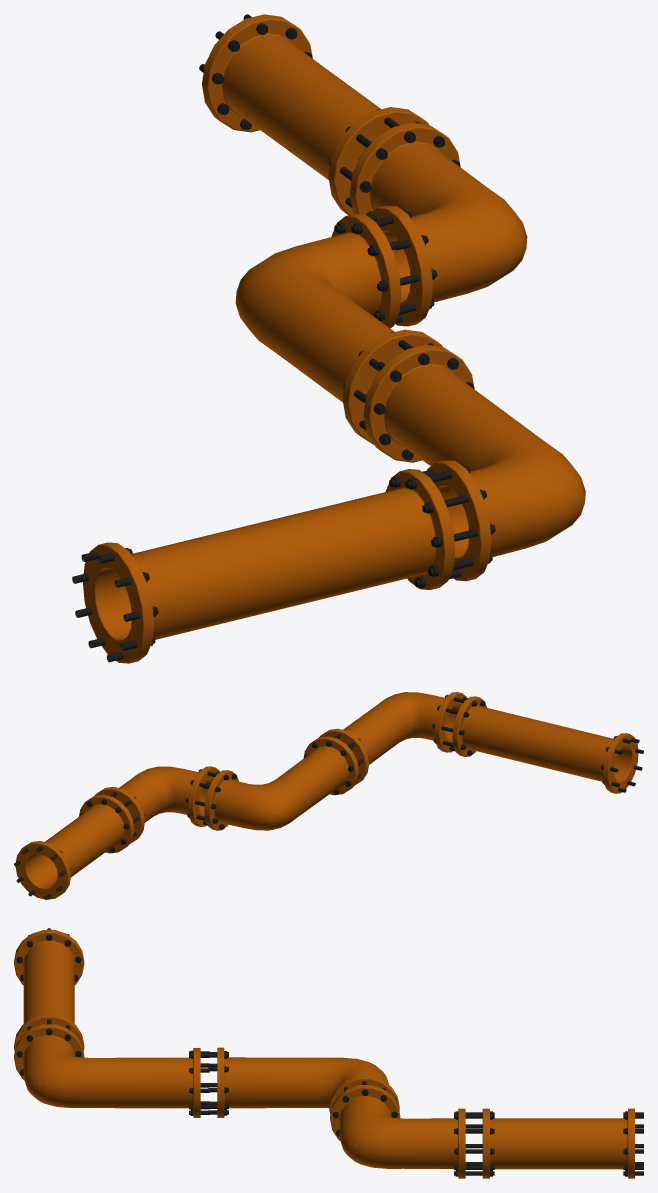
File: industrial_pipes_1.FBX
3 views of the same model, one above another, from view 1: azimuth 30°, elevation 25°; view 2: azimuth 150°, elevation 25°; view 3: azimuth 270°, elevation 25° (orthographic). The views are drawn at different scales.
Parts seen in each view (by area): view 1: Cylinder005, Cylinder004, Cylinder003, Cylinder002, Cylinder001; view 2: Cylinder005, Cylinder003, Cylinder001, Cylinder004, Cylinder002; view 3: Cylinder004, Cylinder001, Cylinder002, Cylinder003, Cylinder005.
Boxes of the visible parts, x1,y1,x2,y2 form: Cylinder005: (72, 469, 465, 663); Cylinder004: (361, 344, 585, 581); Cylinder003: (235, 213, 442, 444); Cylinder002: (347, 122, 527, 326); Cylinder001: (199, 14, 428, 215); Cylinder005: (448, 696, 643, 793); Cylinder003: (201, 736, 360, 830); Cylinder001: (14, 794, 135, 899); Cylinder004: (319, 692, 467, 785); Cylinder002: (95, 766, 220, 844); Cylinder004: (14, 1022, 209, 1117); Cylinder001: (474, 1108, 643, 1178); Cylinder002: (330, 1083, 474, 1178); Cylinder003: (208, 1047, 399, 1117); Cylinder005: (14, 928, 84, 1051).
Bounding box in the file's own units: 1333 × 194 × 1764.
